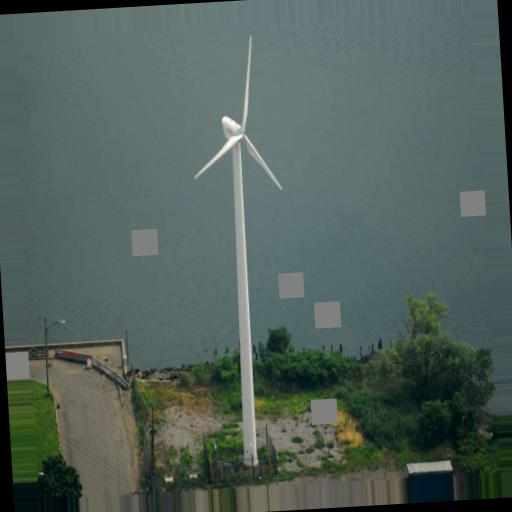wind turbine: (191, 34, 284, 468)
